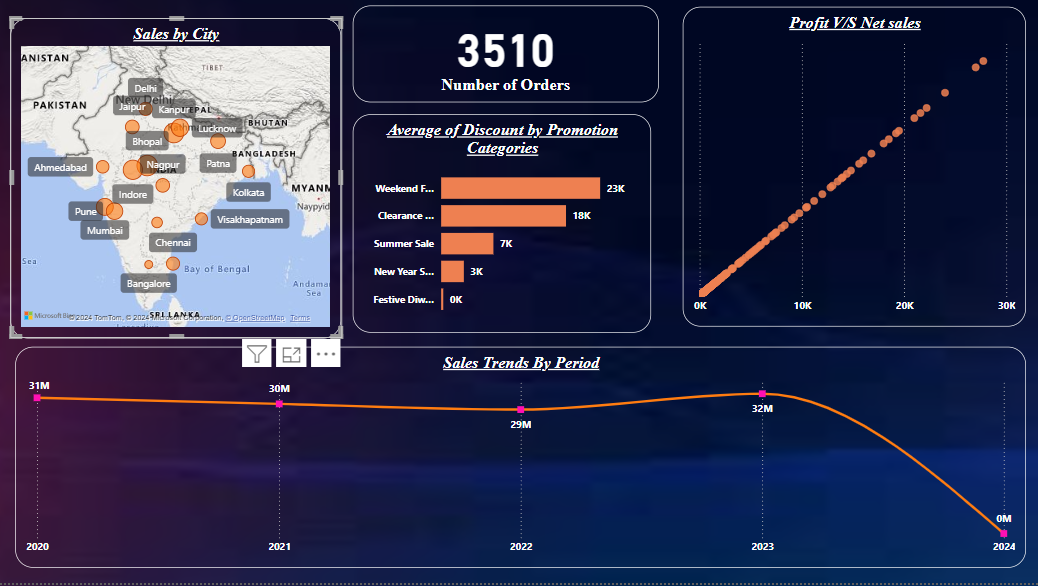

What the dashboard file says about the page in this screenshot:
{"tool":"powerbi","page":{"name":"Overview","canvas":[1280,720],"ordinal":0},"visuals":[{"type":"lineChart","title":"Sales Trends By Period","fields":{"Y":["Sum(Fact table.Net sales)"],"Category":["Fact table.date.Variation.Date Hierarchy.Year","Fact table.date.Variation.Date Hierarchy.Quarter","Fact table.date.Variation.Date Hierarchy.Month","Fact table.date.Variation.Date Hierarchy.Day"]},"box":[19.7,429,1243.9,272.2],"z":0},{"type":"scatterChart","title":"Profit V/S  Net sales","fields":{"X":["Fact table.Profit"],"Y":["Fact table.Net sales"]},"box":[841.2,10,422.5,393.8],"z":1000},{"type":"barChart","title":"Average of Discount by Promotion Categories","fields":{"Y":["Avg(Fact table.Discount)"],"Category":["Dim Promotion.Promotion Name"]},"box":[435.2,142.4,367.2,268.7],"z":2000},{"type":"map","title":"Sales by City","fields":{"Category":["Dim Customers.City"],"Size":["Sum(Fact table.Net sales)"]},"box":[13.4,24.2,407.5,394],"z":3000},{"type":"card","fields":{"Values":["Count(Fact table.Order Id)"]},"box":[435.2,9.9,377,119.1],"z":4000}]}

Visuals, with their boxes in screenshot pixels (x1, y1, x2, y2), scaled from the page's 1280x720 canvas onto the 1038x586 screenshot:
"Sales Trends By Period" lineChart: bbox(16, 349, 1025, 571)
"Profit V/S  Net sales" scatterChart: bbox(682, 8, 1025, 329)
"Average of Discount by Promotion Categories" barChart: bbox(353, 116, 651, 335)
"Sales by City" map: bbox(11, 20, 341, 340)
card - Count(Fact table.Order Id): bbox(353, 8, 659, 105)
